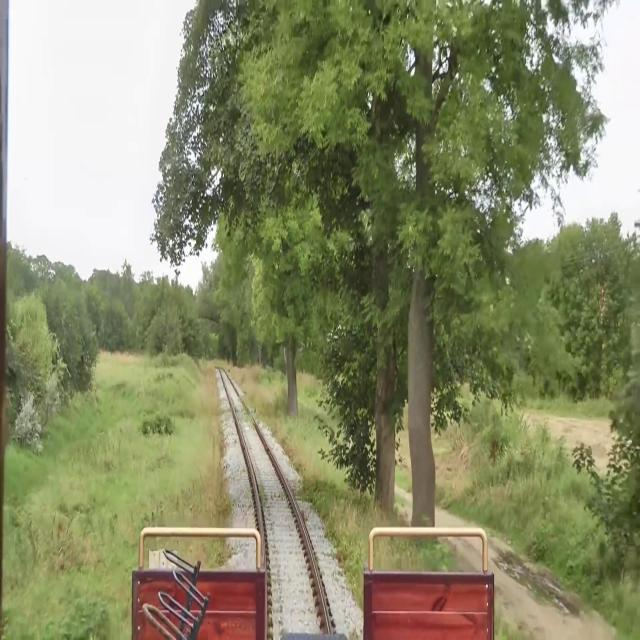rail-track: (223, 372, 327, 629)
